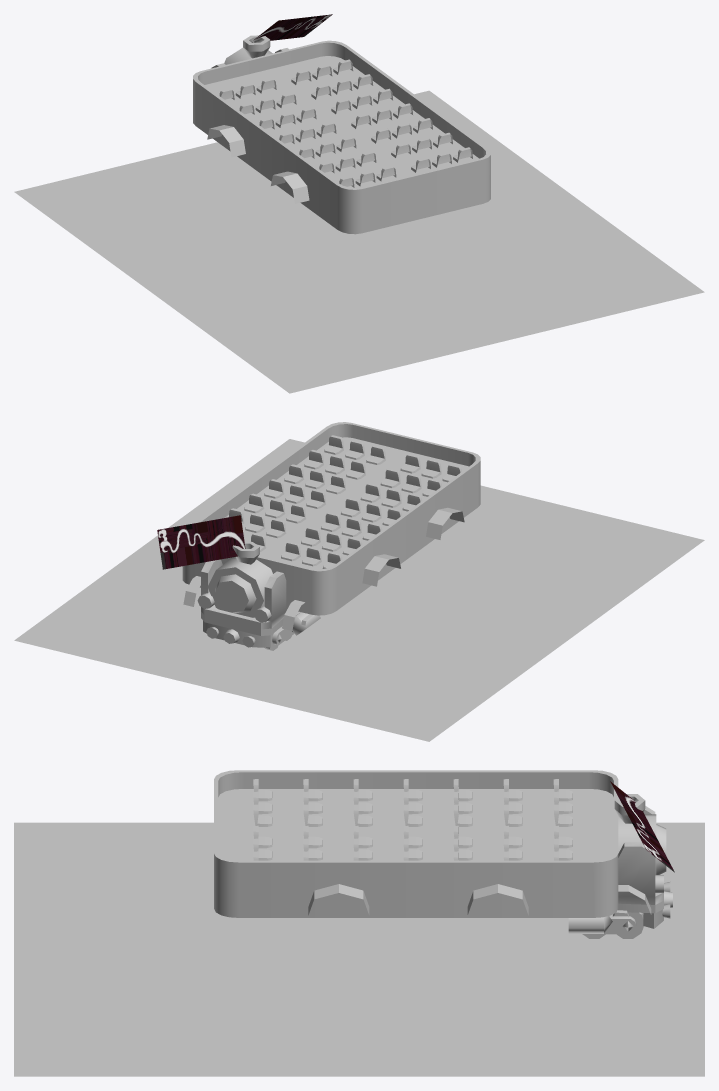
Rendered from Train_Level_Final.fbx.
3 renders of one model, top to bottom at view 1: azimuth 30°, elevation 25°; view 2: azimuth 150°, elevation 25°; view 3: azimuth 270°, elevation 25°, orthographic. The views are drawn at different scales.
Visible parts, largest first — view 1: Background_Plane, Train_Body_01, Train_Ground, train_smoke_png, train-locomotive-c.008, Train_Wheels_03, Train_Wheels_02; view 2: Background_Plane, Train_Body_01, Train_Ground, train-locomotive-c.008, train_smoke_png, train-locomotive-c.012, Train_Wheels_01, Train_Wheels_02, Train_Wheels_03; view 3: Background_Plane, Train_Body_01, Train_Ground, train-locomotive-c.008, train-locomotive-c.012, train_smoke_png, Train_Wheels_02, Train_Wheels_03, wheels-front.004.
Part boxes in pixels (<box>): Background_Plane: <box>14,90,704,393</box>; Train_Body_01: <box>193,40,490,234</box>; Train_Ground: <box>205,56,479,187</box>; train_smoke_png: <box>253,14,332,40</box>; train-locomotive-c.008: <box>224,35,272,64</box>; Train_Wheels_03: <box>271,171,309,203</box>; Train_Wheels_02: <box>207,125,245,157</box>; Background_Plane: <box>14,439,704,741</box>; Train_Body_01: <box>182,422,480,615</box>; Train_Ground: <box>225,437,468,569</box>; train-locomotive-c.008: <box>203,541,320,647</box>; train_smoke_png: <box>157,515,245,569</box>; train-locomotive-c.012: <box>201,559,287,635</box>; Train_Wheels_01: <box>183,576,312,630</box>; Train_Wheels_02: <box>362,554,400,586</box>; Train_Wheels_03: <box>426,507,464,539</box>; Background_Plane: <box>14,822,704,1076</box>; Train_Body_01: <box>214,770,618,917</box>; Train_Ground: <box>218,789,613,860</box>; train-locomotive-c.008: <box>568,794,672,933</box>; train-locomotive-c.012: <box>618,806,663,913</box>; train_smoke_png: <box>610,781,674,872</box>; Train_Wheels_02: <box>467,884,528,915</box>; Train_Wheels_03: <box>308,884,369,915</box>; wheels-front.004: <box>582,912,643,938</box>.
Size of the model in its own units: 2072 by 685 by 2381.
